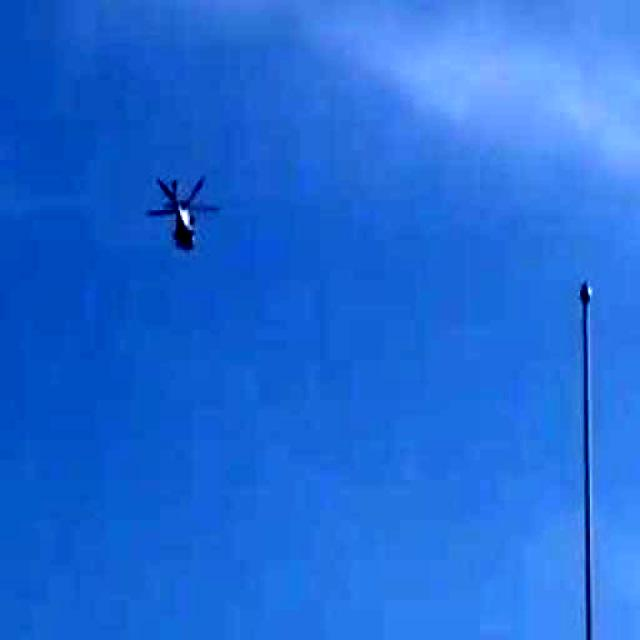drone: (114, 121, 254, 288)
